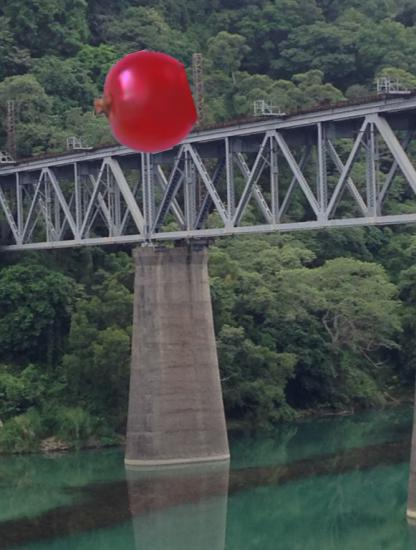Redcurrant: (92, 52, 195, 155)
